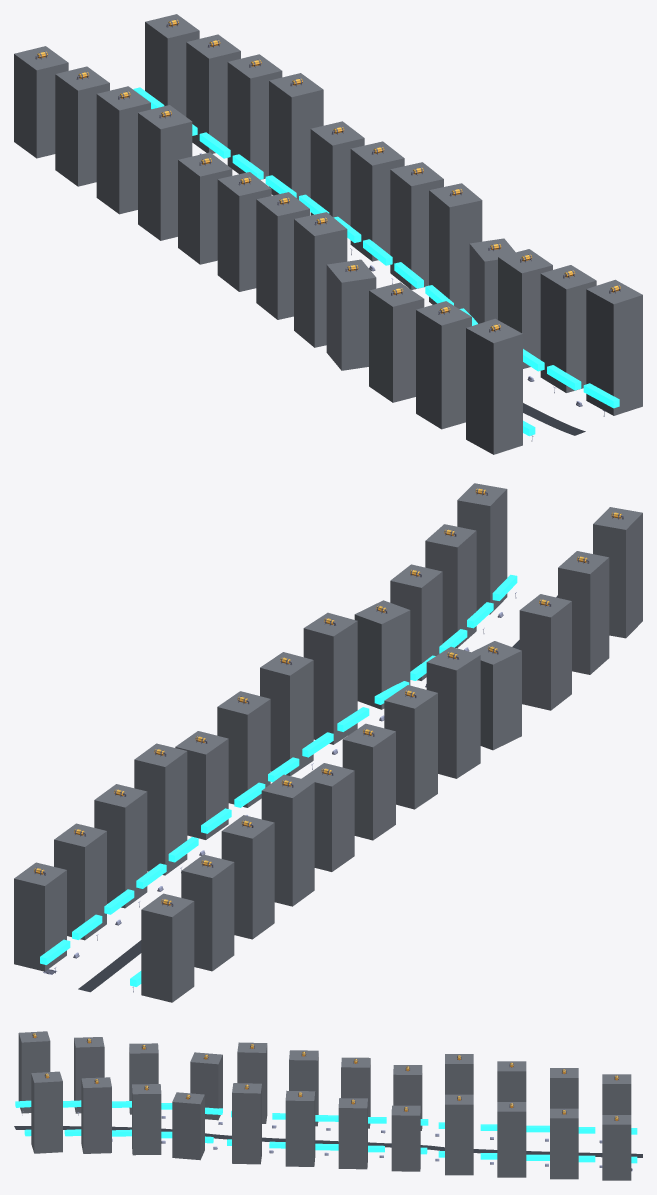
File: sector_01_cerberus_corridor.glb
3 views of the same model, one above another, from view 1: azimuth 30°, elevation 25°; view 2: azimuth 150°, elevation 25°; view 3: azimuth 270°, elevation 25° (orthographic). The views are drawn at different scales.
Parts seen in each view (by area): view 1: Tower_zone_megatowers_flanks_-1_11, Tower_zone_megatowers_flanks_1_11, Tower_zone_megatowers_flanks_-1_10, Tower_zone_megatowers_flanks_-1_3, Tower_zone_megatowers_flanks_-1_9, Tower_zone_megatowers_flanks_1_7, Tower_zone_megatowers_flanks_1_3, Tower_zone_megatowers_flanks_1_10, Tower_zone_megatowers_flanks_-1_2, Tower_zone_megatowers_flanks_-1_7, Tower_zone_megatowers_flanks_-1_1, Tower_zone_megatowers_flanks_-1_6 (+12 smaller); view 2: Tower_zone_megatowers_flanks_-1_7, Tower_zone_megatowers_flanks_1_7, Tower_zone_megatowers_flanks_-1_3, Tower_zone_megatowers_flanks_-1_9, Tower_zone_megatowers_flanks_-1_0, Tower_zone_megatowers_flanks_-1_6, Tower_zone_megatowers_flanks_-1_2, Tower_zone_megatowers_flanks_1_3, Tower_zone_megatowers_flanks_1_6, Tower_zone_megatowers_flanks_-1_10, Tower_zone_megatowers_flanks_-1_5, Tower_zone_megatowers_flanks_1_0 (+13 smaller); view 3: Tower_zone_megatowers_flanks_1_11, Tower_zone_megatowers_flanks_1_7, Tower_zone_megatowers_flanks_1_3, Tower_zone_megatowers_flanks_1_10, Tower_zone_megatowers_flanks_1_6, Tower_zone_megatowers_flanks_1_2, Tower_zone_megatowers_flanks_1_8, Tower_zone_megatowers_flanks_1_5, Tower_zone_megatowers_flanks_1_9, Tower_zone_megatowers_flanks_1_1, Tower_zone_megatowers_flanks_1_4, Tower_zone_megatowers_flanks_1_0 (+13 smaller).
Part boxes in pixels (<box>): Tower_zone_megatowers_flanks_-1_11: <box>466,318,522,454</box>; Tower_zone_megatowers_flanks_1_11: <box>586,279,642,415</box>; Tower_zone_megatowers_flanks_-1_10: <box>416,301,471,429</box>; Tower_zone_megatowers_flanks_-1_3: <box>138,105,192,240</box>; Tower_zone_megatowers_flanks_-1_9: <box>369,282,424,402</box>; Tower_zone_megatowers_flanks_1_7: <box>429,183,482,313</box>; Tower_zone_megatowers_flanks_1_3: <box>269,73,323,199</box>; Tower_zone_megatowers_flanks_1_10: <box>540,265,596,392</box>; Tower_zone_megatowers_flanks_-1_2: <box>96,86,150,214</box>; Tower_zone_megatowers_flanks_-1_7: <box>294,212,347,347</box>; Tower_zone_megatowers_flanks_-1_1: <box>55,66,109,186</box>; Tower_zone_megatowers_flanks_-1_6: <box>256,192,309,319</box>; Tower_zone_megatowers_flanks_-1_7: <box>426,646,480,778</box>; Tower_zone_megatowers_flanks_1_7: <box>303,612,357,744</box>; Tower_zone_megatowers_flanks_-1_3: <box>261,774,314,906</box>; Tower_zone_megatowers_flanks_-1_9: <box>519,594,571,710</box>; Tower_zone_megatowers_flanks_-1_0: <box>141,893,194,1002</box>; Tower_zone_megatowers_flanks_-1_6: <box>384,685,437,809</box>; Tower_zone_megatowers_flanks_-1_2: <box>221,815,274,939</box>; Tower_zone_megatowers_flanks_1_3: <box>134,743,187,875</box>; Tower_zone_megatowers_flanks_1_6: <box>260,652,313,775</box>; Tower_zone_megatowers_flanks_-1_10: <box>558,551,609,674</box>; Tower_zone_megatowers_flanks_-1_5: <box>342,723,395,840</box>; Tower_zone_megatowers_flanks_1_0: <box>14,862,66,971</box>; Tower_zone_megatowers_flanks_1_11: <box>31,1071,62,1153</box>; Tower_zone_megatowers_flanks_1_7: <box>232,1083,261,1164</box>; Tower_zone_megatowers_flanks_1_3: <box>445,1094,473,1175</box>; Tower_zone_megatowers_flanks_1_10: <box>81,1077,111,1153</box>; Tower_zone_megatowers_flanks_1_6: <box>285,1090,315,1166</box>; Tower_zone_megatowers_flanks_1_2: <box>497,1102,526,1177</box>; Tower_zone_megatowers_flanks_1_8: <box>172,1092,204,1160</box>; Tower_zone_megatowers_flanks_1_5: <box>338,1098,367,1169</box>; Tower_zone_megatowers_flanks_1_9: <box>132,1084,161,1155</box>; Tower_zone_megatowers_flanks_1_1: <box>550,1108,578,1179</box>; Tower_zone_megatowers_flanks_1_4: <box>391,1105,420,1171</box>; Tower_zone_megatowers_flanks_1_0: <box>602,1115,631,1180</box>.
Bounding box in the file's own units: 193 × 162 × 916.
7 materials, 4 textured.
